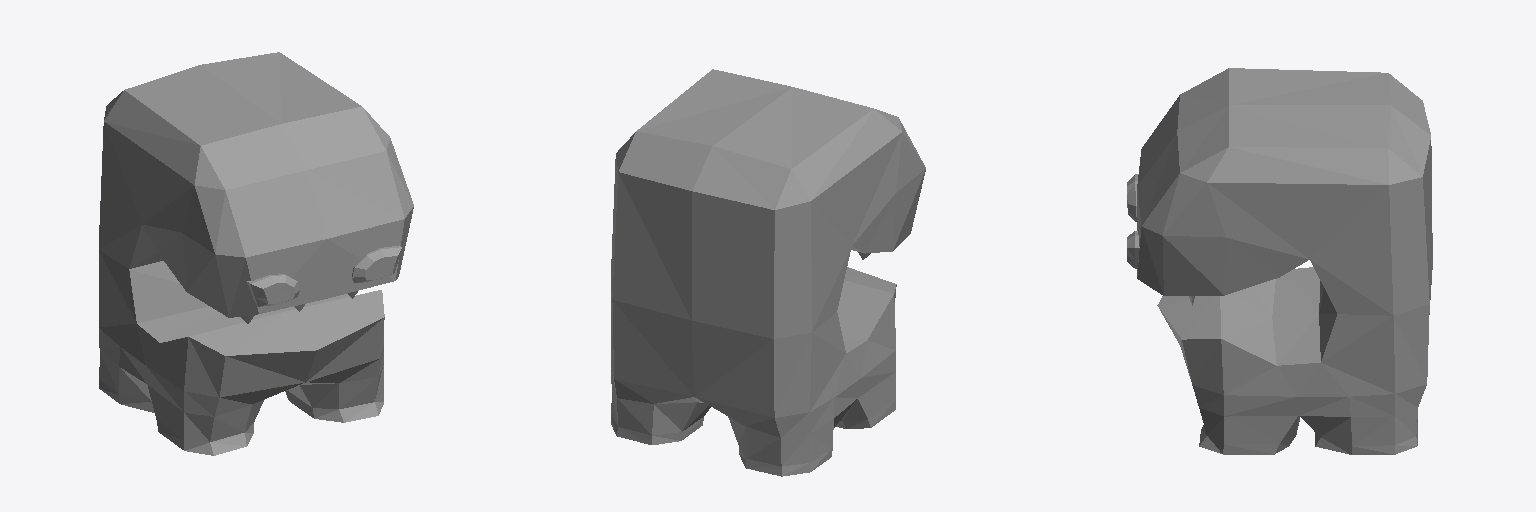
Rendered from mob2.obj.
3 views of the same model, side by side, from view 1: azimuth 30°, elevation 25°; view 2: azimuth 150°, elevation 25°; view 3: azimuth 270°, elevation 25° (orthographic).
Parts seen in each view (by area): view 1: Mesh_Mesh.003_body:polySur; view 2: Mesh_Mesh.003_body:polySur; view 3: Mesh_Mesh.003_body:polySur.
Boxes of the visible parts, <box> form: Mesh_Mesh.003_body:polySur: <box>99,52,413,455</box>; Mesh_Mesh.003_body:polySur: <box>611,69,925,476</box>; Mesh_Mesh.003_body:polySur: <box>1127,68,1432,454</box>.
Bounding box in the file's own units: 1.45 × 2.06 × 1.9.